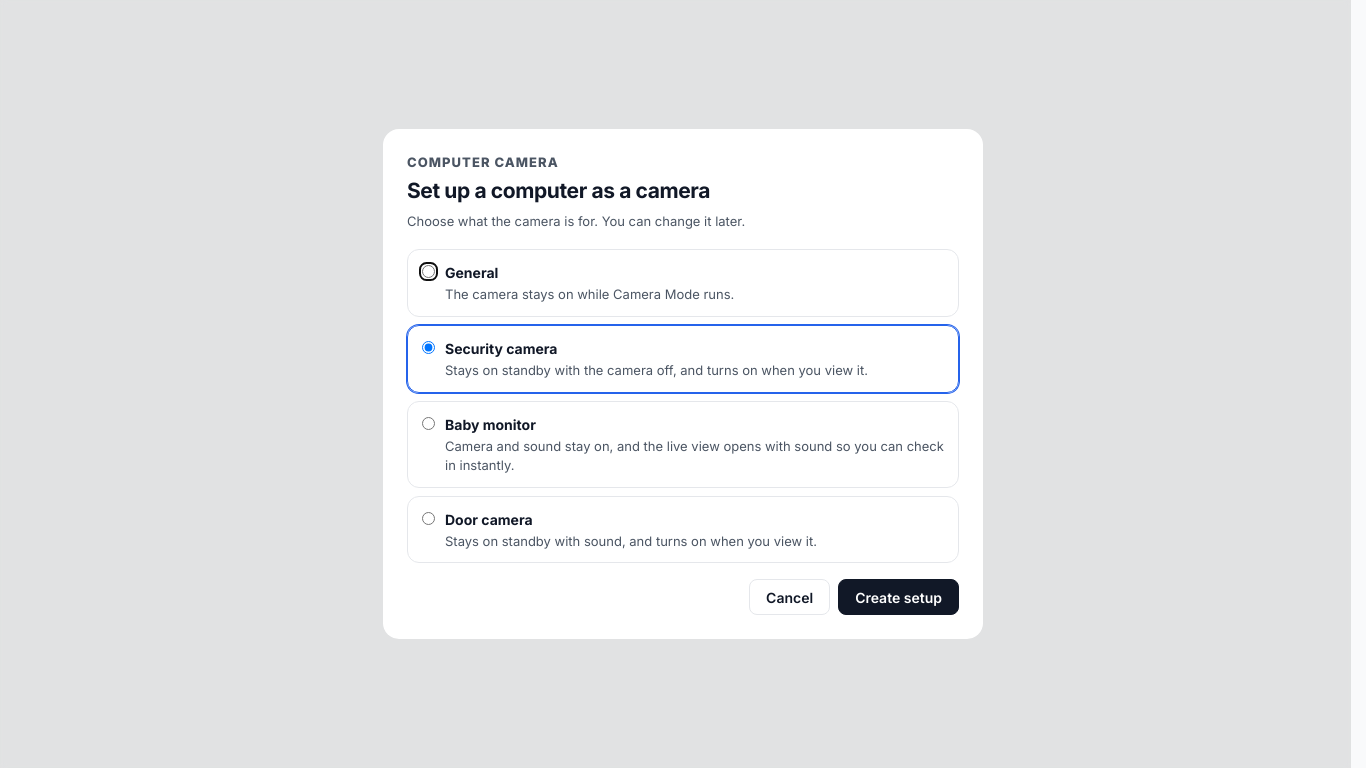
ComputerCameraSetupDialog › offers a fresh setup once the code expires
The width and height of the screenshot is (1366, 768).
Click the button "Create setup".
click(899, 597)  # box [838,579,959,615]
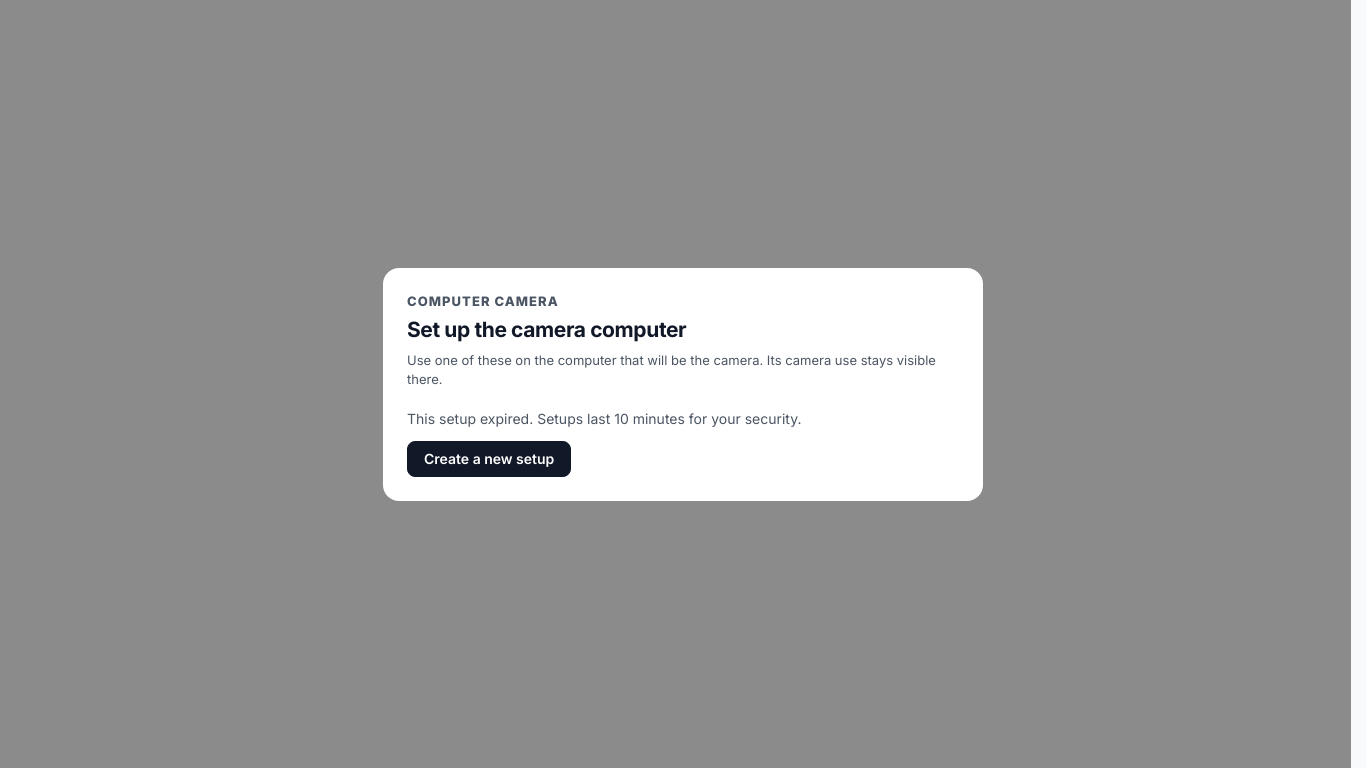
Result: the button "Create a new setup" is shown at [407,440,571,476]
